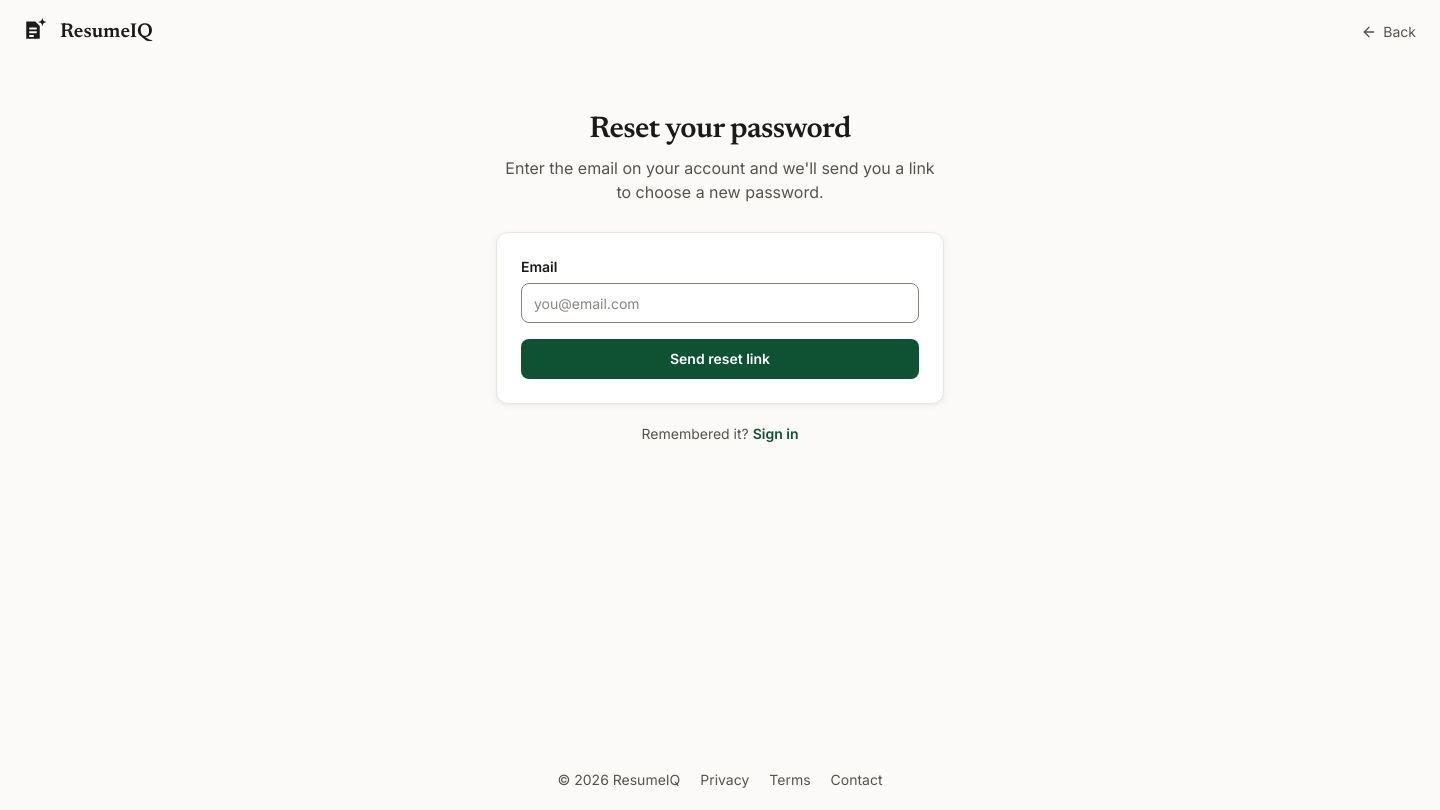
Scenario: ForgotPasswordPage › shows the same confirmation after sending
The image size is (1440, 810).
In the field labelled "Email": coordinates (720, 303) x1=521 y1=283 x2=919 y2=323, type "maya@example.com"
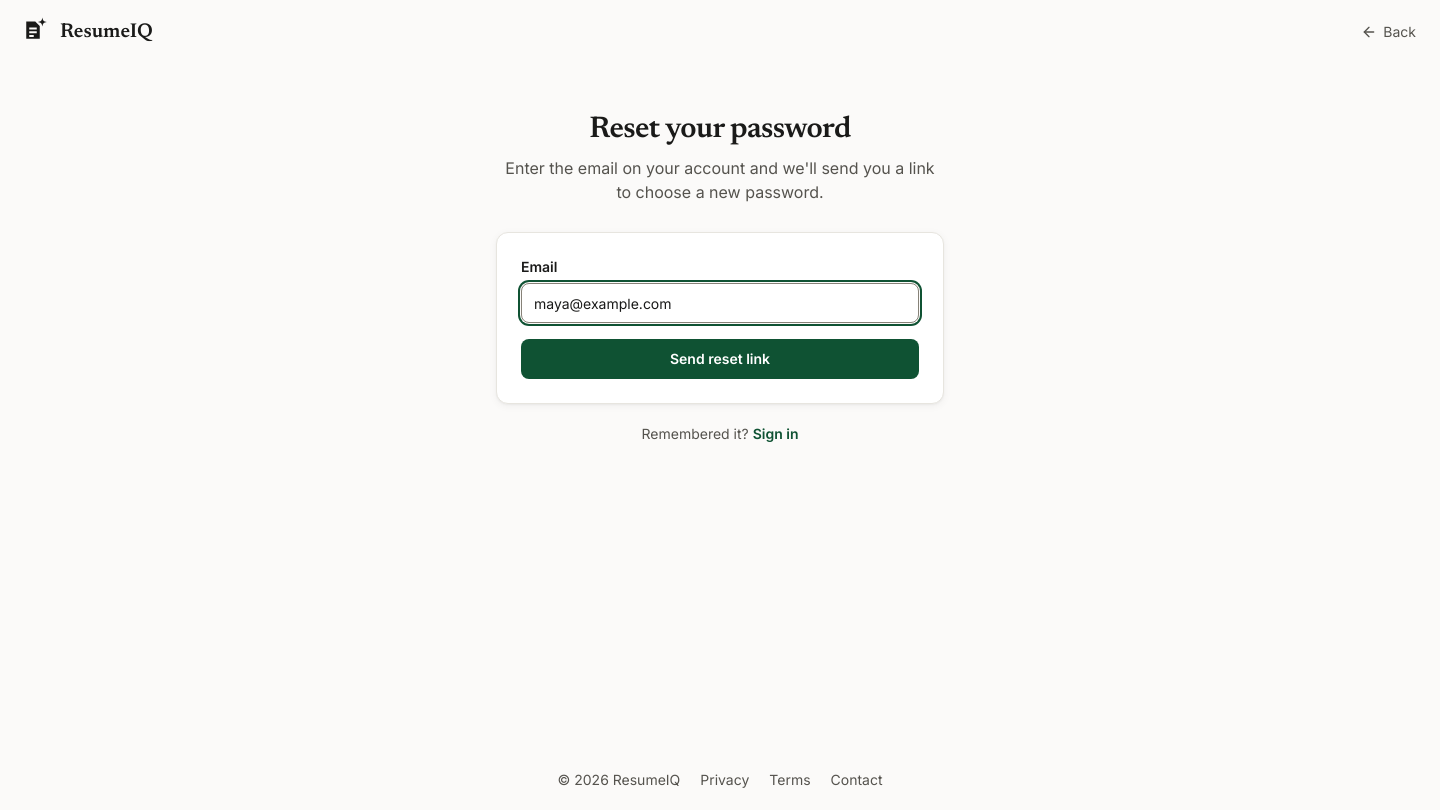
Click the button "Send reset link": coordinates (720, 359) x1=521 y1=339 x2=919 y2=379
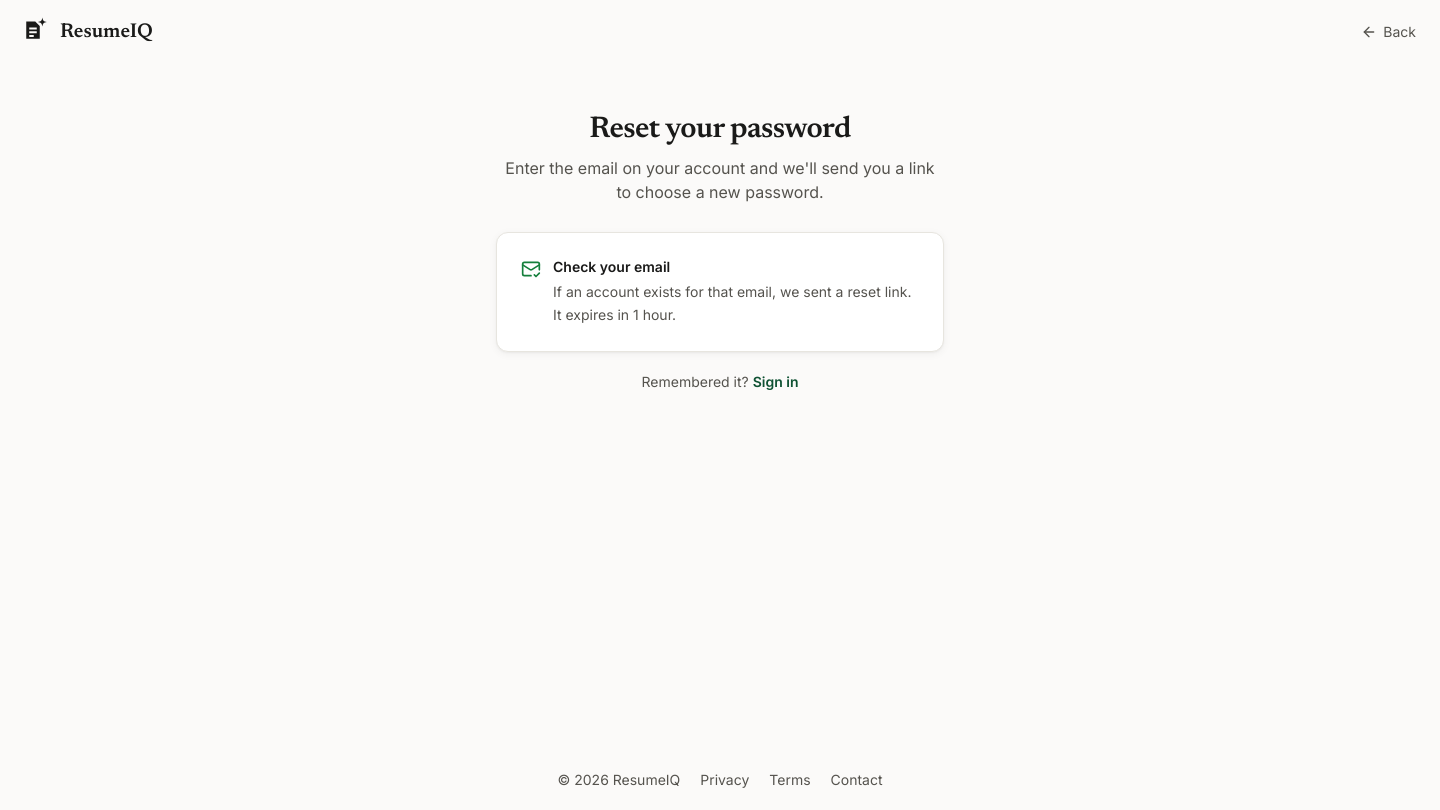
Expected: the message shows "If an account exists for that email, we sent a reset link. It expires in 1 hour.", x1=553 y1=283 x2=912 y2=323
